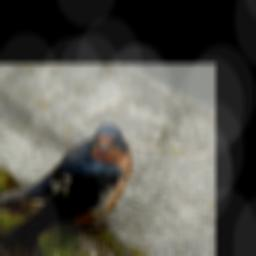Swallow: (0, 122, 134, 246)
